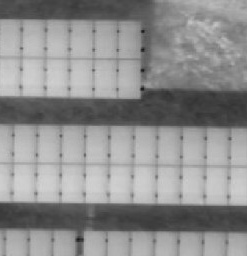solar: (19, 17, 49, 57), (43, 17, 73, 57), (66, 18, 96, 58), (90, 18, 120, 58), (114, 18, 144, 58), (17, 56, 47, 96), (42, 56, 72, 96), (65, 57, 95, 97), (89, 57, 119, 97), (113, 57, 143, 97), (9, 123, 39, 163), (33, 123, 63, 163), (58, 124, 88, 164), (81, 124, 111, 164), (106, 124, 136, 164), (130, 124, 160, 164), (154, 125, 184, 165), (178, 126, 208, 166), (202, 126, 232, 166), (9, 162, 39, 202), (34, 162, 64, 202), (56, 162, 86, 202), (81, 162, 111, 202), (105, 163, 135, 203), (128, 163, 158, 203), (152, 163, 182, 203), (176, 164, 206, 204), (202, 164, 232, 204)
